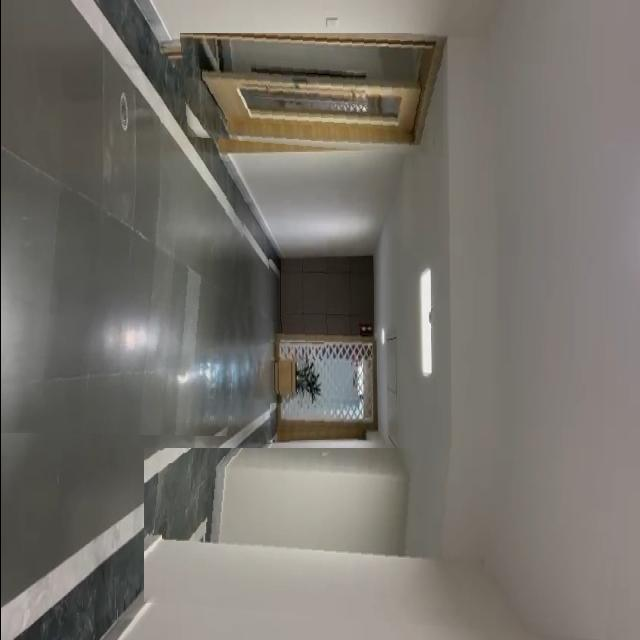door: (177, 33, 442, 158), (268, 259, 371, 433)
floor: (0, 192, 246, 436)
furniture: (265, 342, 323, 405)
wall: (143, 448, 623, 640)
